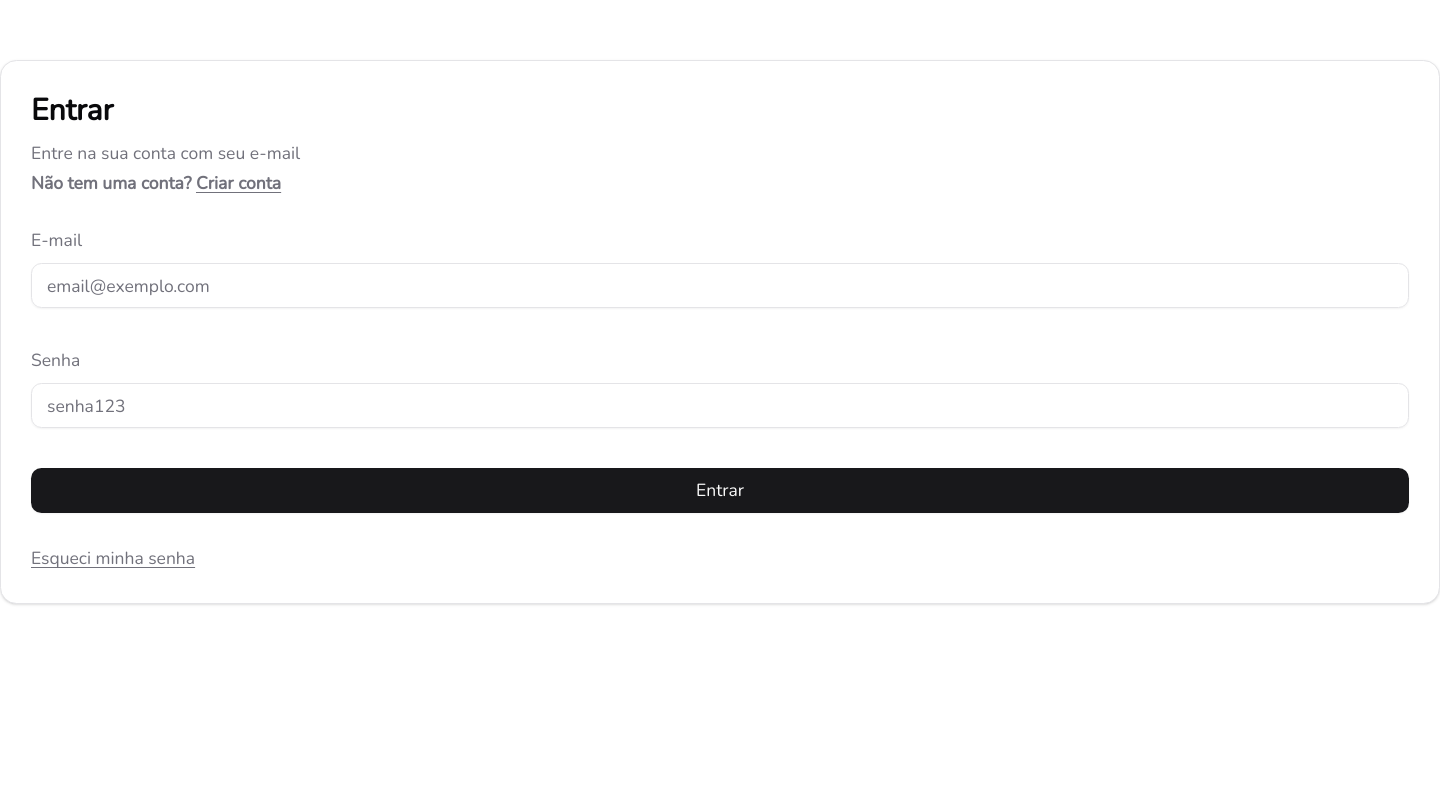
Scenario: Login Page analytics › reports nothing when the sign-in refuses
Type "pessoa@exemplo.com" into the field labelled "E-mail" at (720, 286), box [31,264,1409,308]
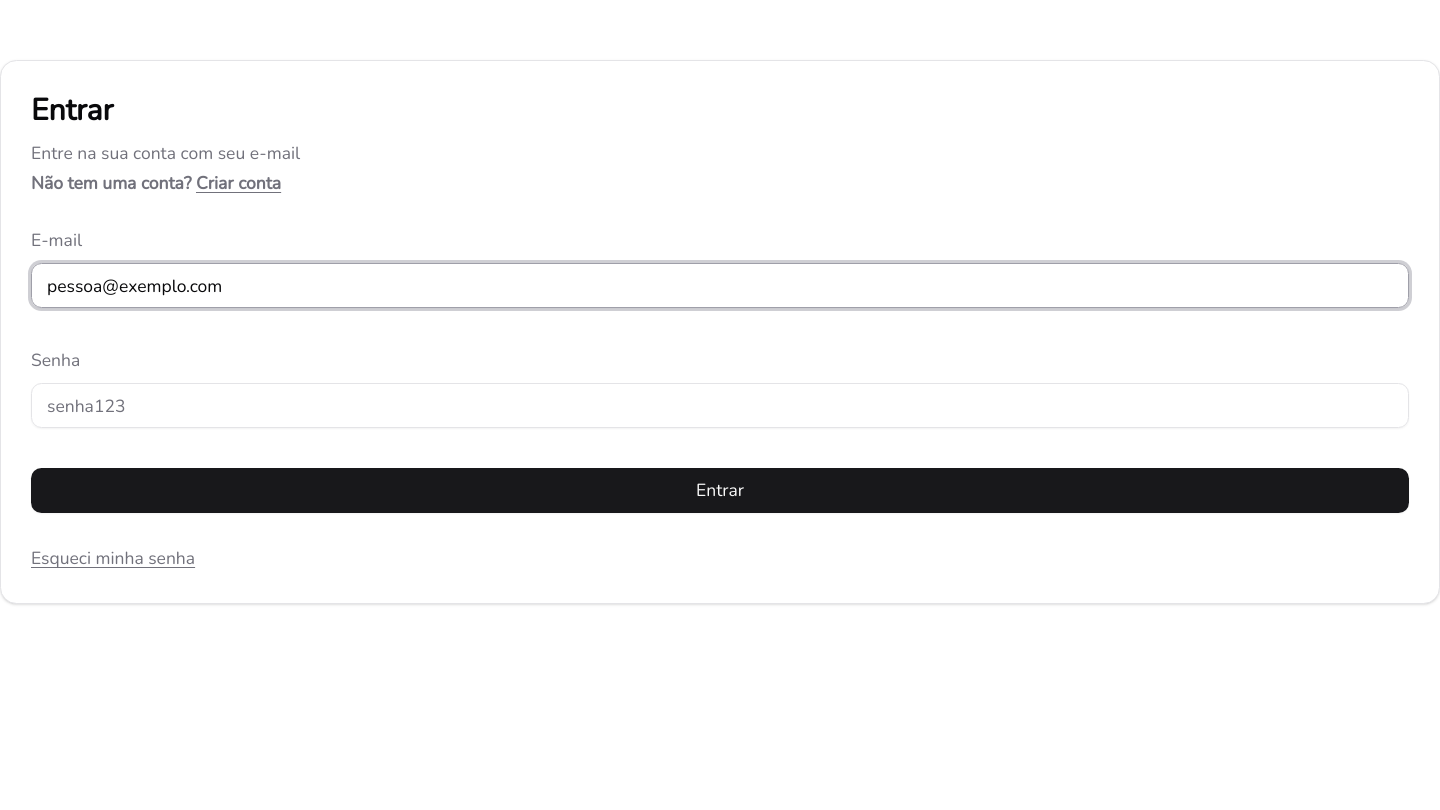
Type "segredo123" into the password field labelled "Senha" at (720, 406), box [31,384,1409,428]
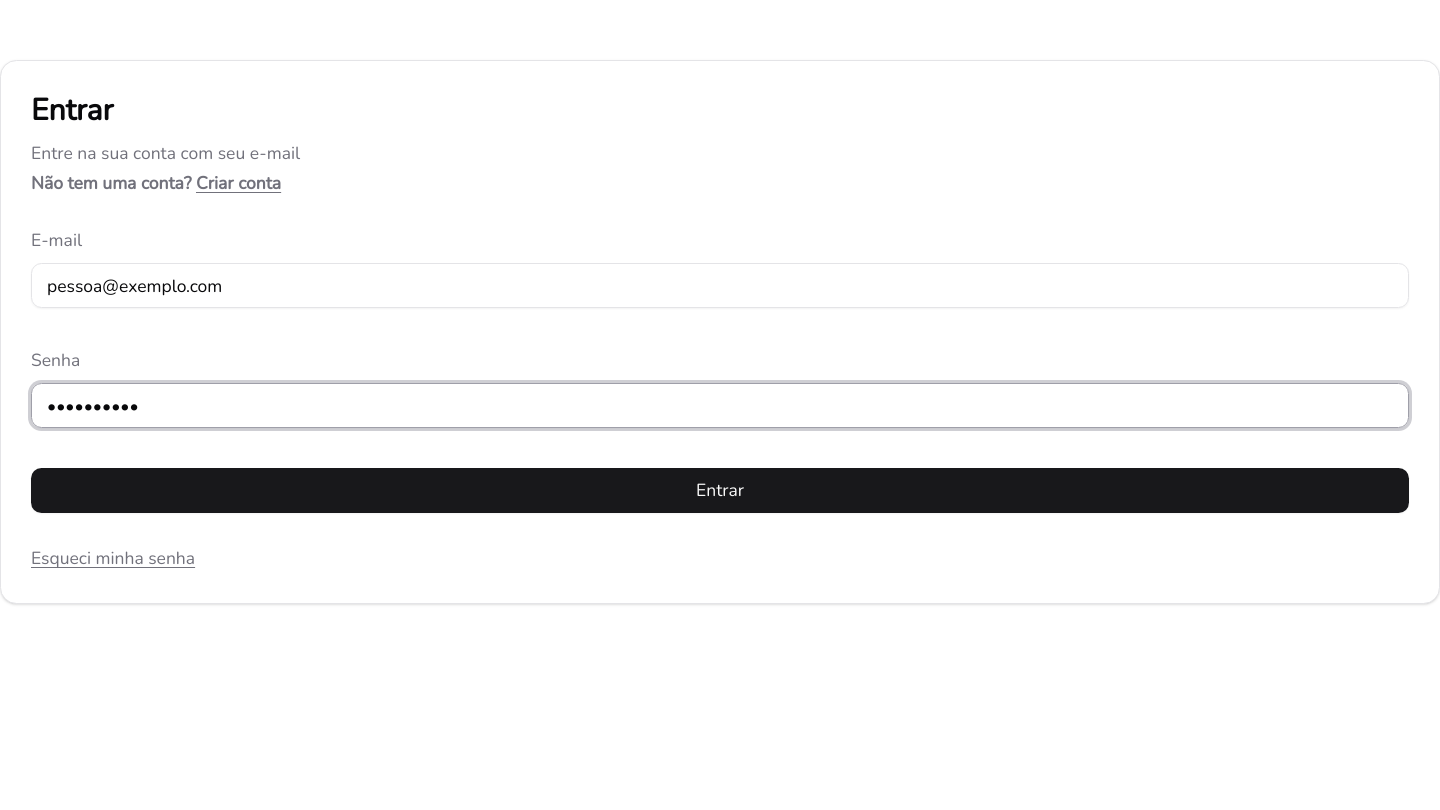
Click the button "Entrar" at (720, 491), box [31,468,1409,514]
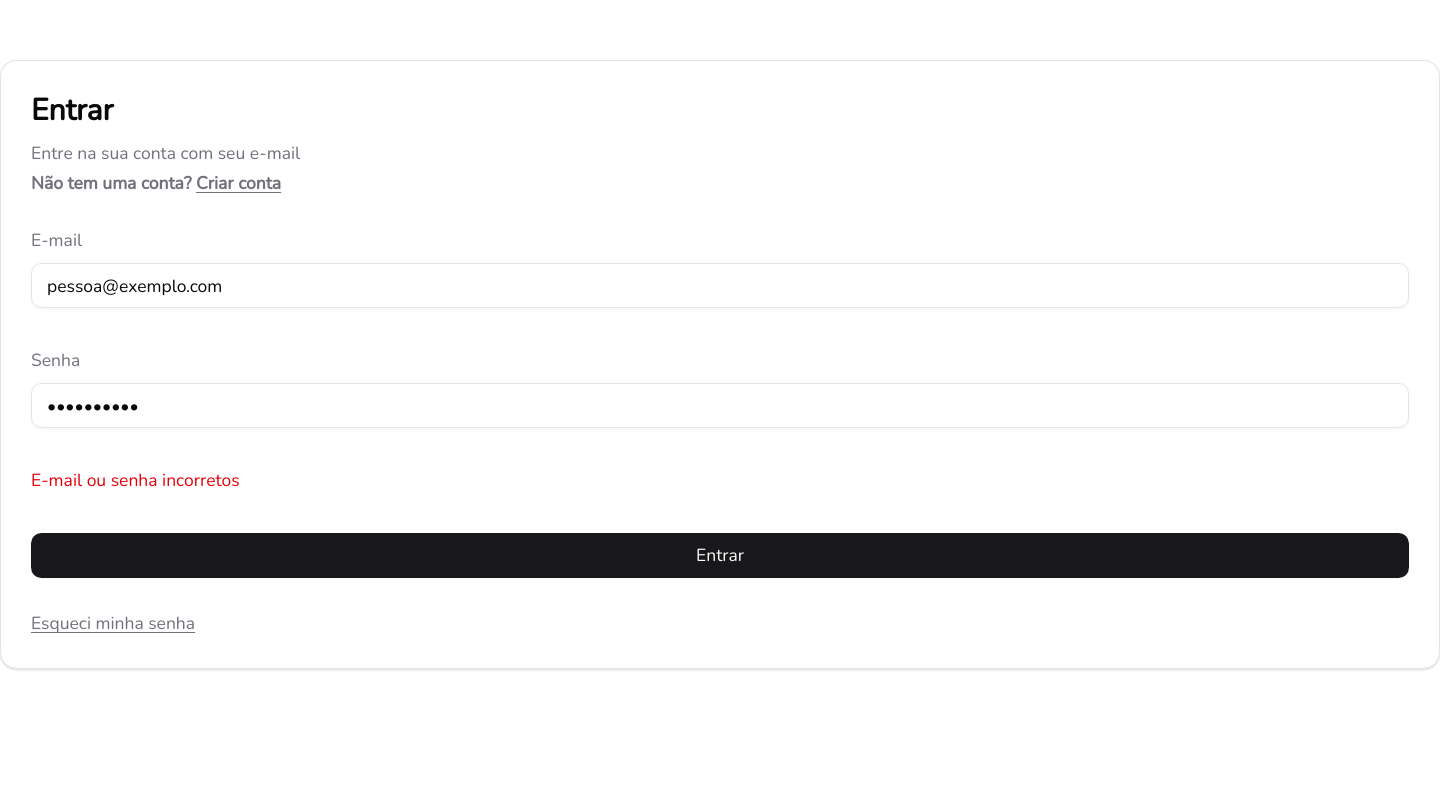
Expected: the text "E-mail ou senha incorretos" is shown, [31,468,240,492]
